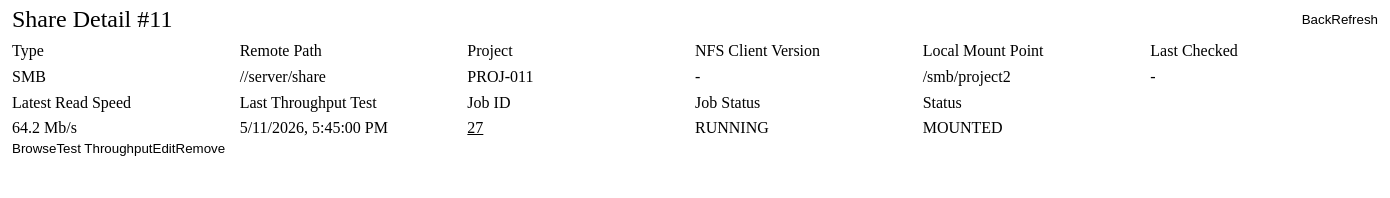
ShareDetailView › shows the latest measured read speed and runs the throughput test for managers
Click the button "Test Throughput" at (105, 148), box [56, 141, 153, 156]
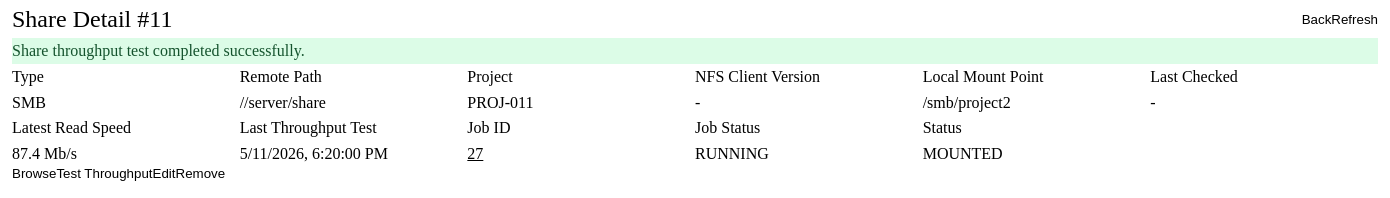
Expected: the text "Share throughput test completed successfully." is shown, [12, 38, 1378, 64]
Expected: the text "87.4 Mb/s" is shown, [12, 145, 77, 162]
